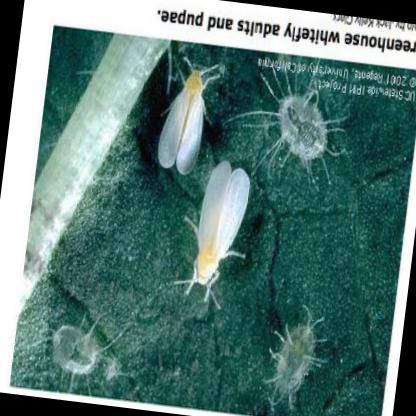whitefly: (196, 163, 250, 288), (159, 71, 204, 177)
